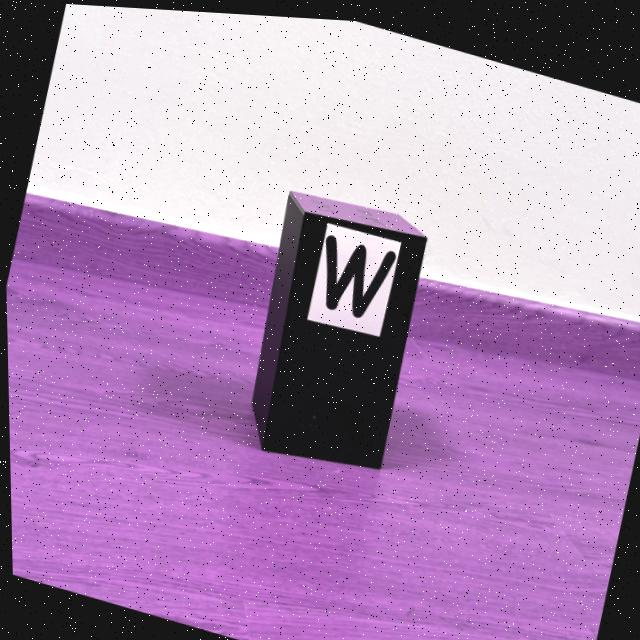W: (324, 230, 394, 313)
